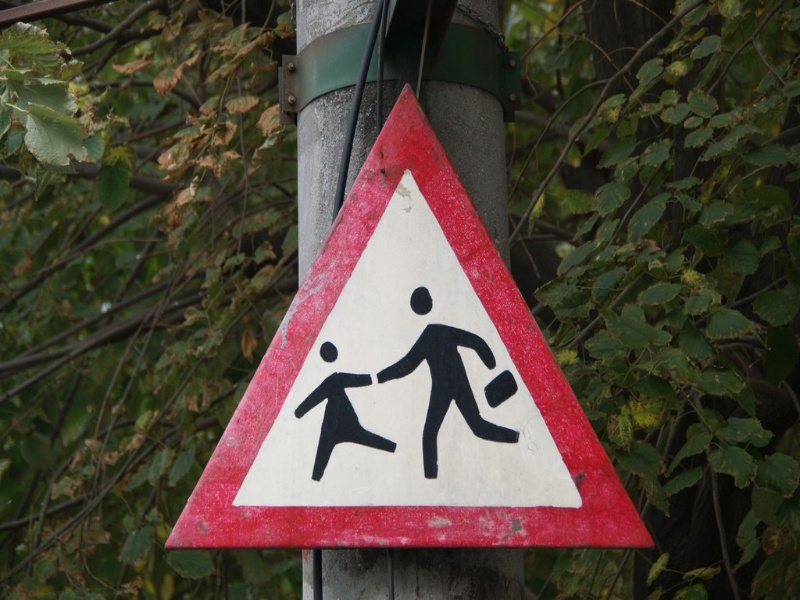pedestrian_crossing_ahead: (159, 81, 663, 556)
